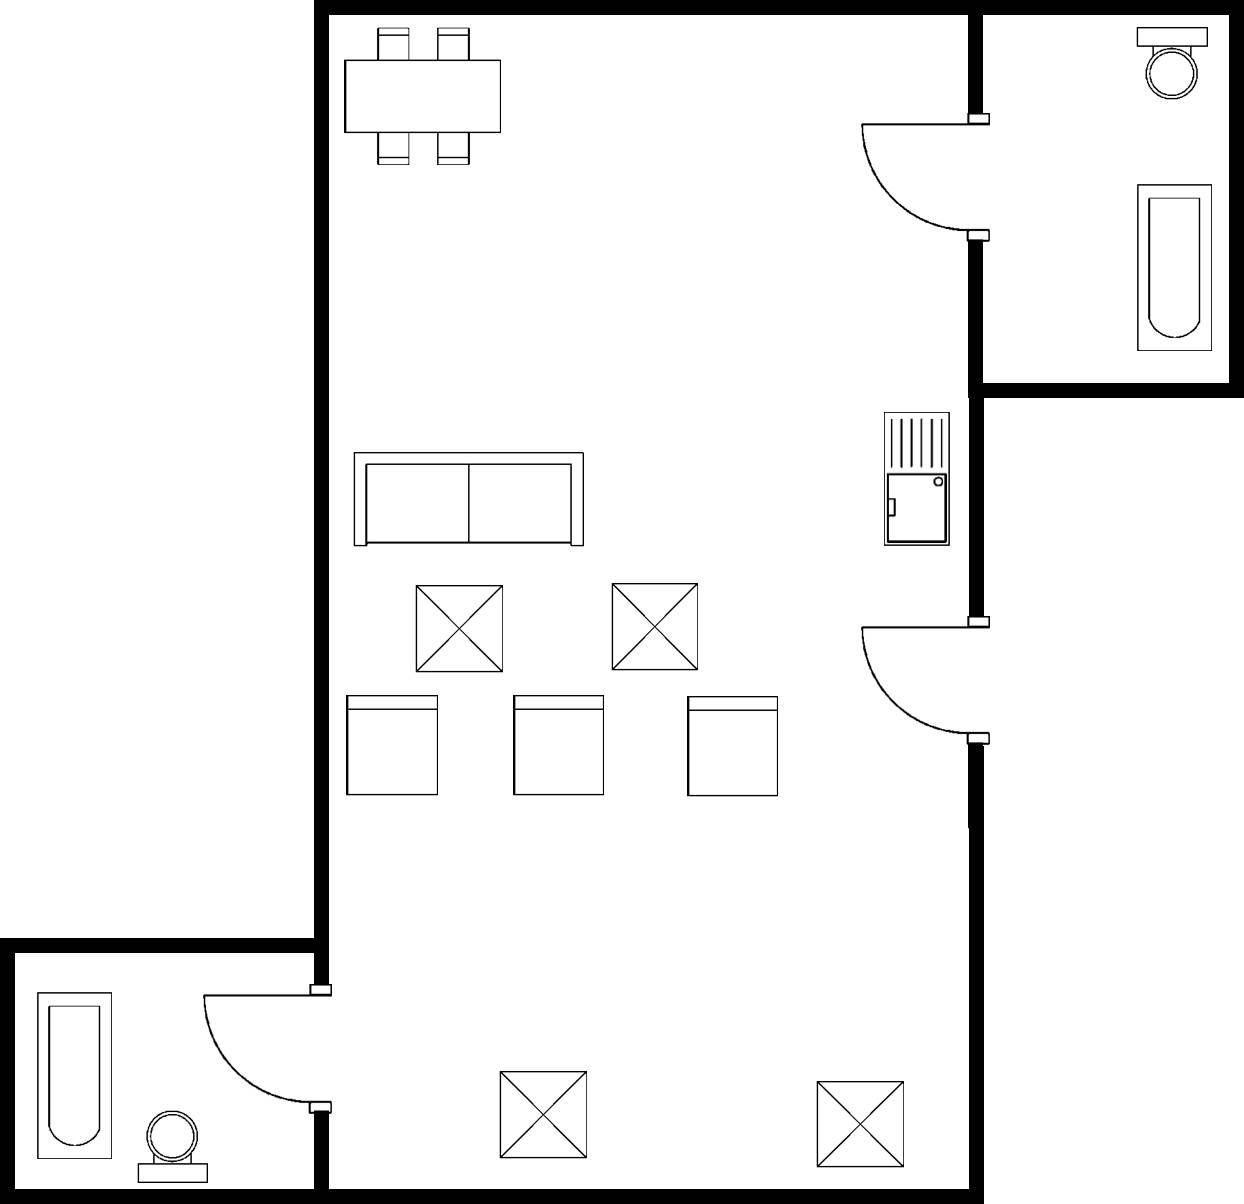coffee_table: (486, 1060, 597, 1169), (602, 576, 712, 680), (809, 1070, 915, 1173), (406, 578, 512, 681)
dining_table: (339, 19, 511, 178)
large_sink: (1126, 21, 1221, 107), (130, 1101, 223, 1186)
large_sofa: (346, 446, 597, 560)
sink: (875, 403, 958, 558)
small_sofa: (677, 688, 792, 805), (503, 688, 612, 805), (342, 685, 446, 802)
tub: (1129, 172, 1218, 362), (30, 983, 119, 1169)
